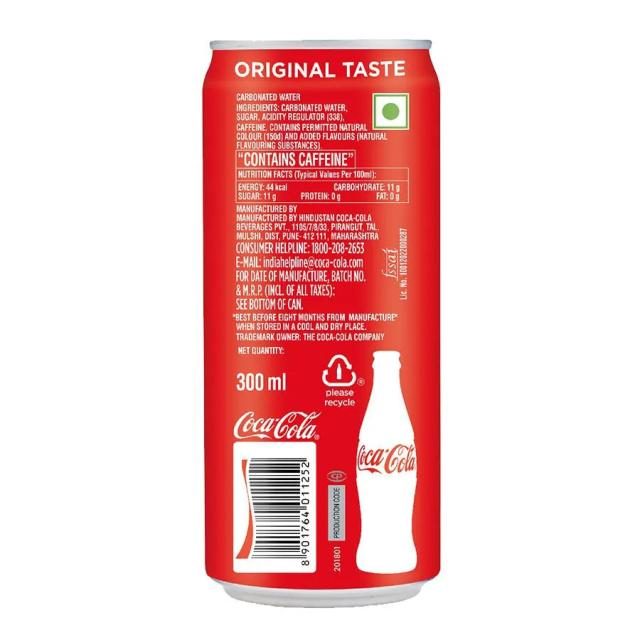cocacola: (193, 35, 465, 618)
